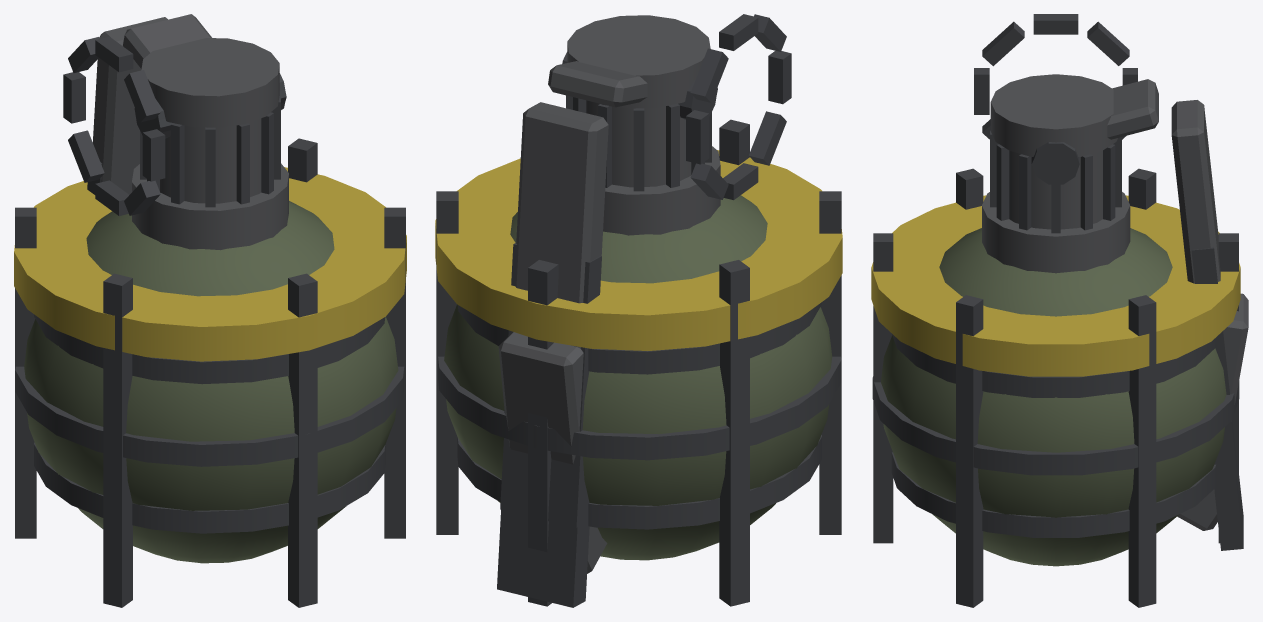
The model's file is grenade.glb.
3 views of the same model, side by side, from view 1: azimuth 30°, elevation 25°; view 2: azimuth 150°, elevation 25°; view 3: azimuth 270°, elevation 25° (orthographic). The views are drawn at different scales.
Visible parts, largest first — view 1: GRENADE_Steel, GRENADE_OD, GRENADE_Yellow, GRENADE_Alu; view 2: GRENADE_Steel, GRENADE_Alu, GRENADE_OD, GRENADE_Yellow; view 3: GRENADE_Steel, GRENADE_OD, GRENADE_Alu, GRENADE_Yellow.
Part boxes in pixels (<box>): GRENADE_Steel: <box>15,36,405,607</box>; GRENADE_OD: <box>24,201,398,563</box>; GRENADE_Yellow: <box>14,167,406,361</box>; GRENADE_Alu: <box>93,14,288,250</box>; GRENADE_Steel: <box>436,14,841,607</box>; GRENADE_Alu: <box>498,15,720,573</box>; GRENADE_OD: <box>444,195,832,560</box>; GRENADE_Yellow: <box>435,150,842,350</box>; GRENADE_Steel: <box>872,14,1243,607</box>; GRENADE_OD: <box>881,228,1226,566</box>; GRENADE_Alu: <box>982,74,1248,530</box>; GRENADE_Yellow: <box>871,195,1240,376</box>.
Size of the model in its own units: 0.0616 by 0.0908 by 0.0635.
